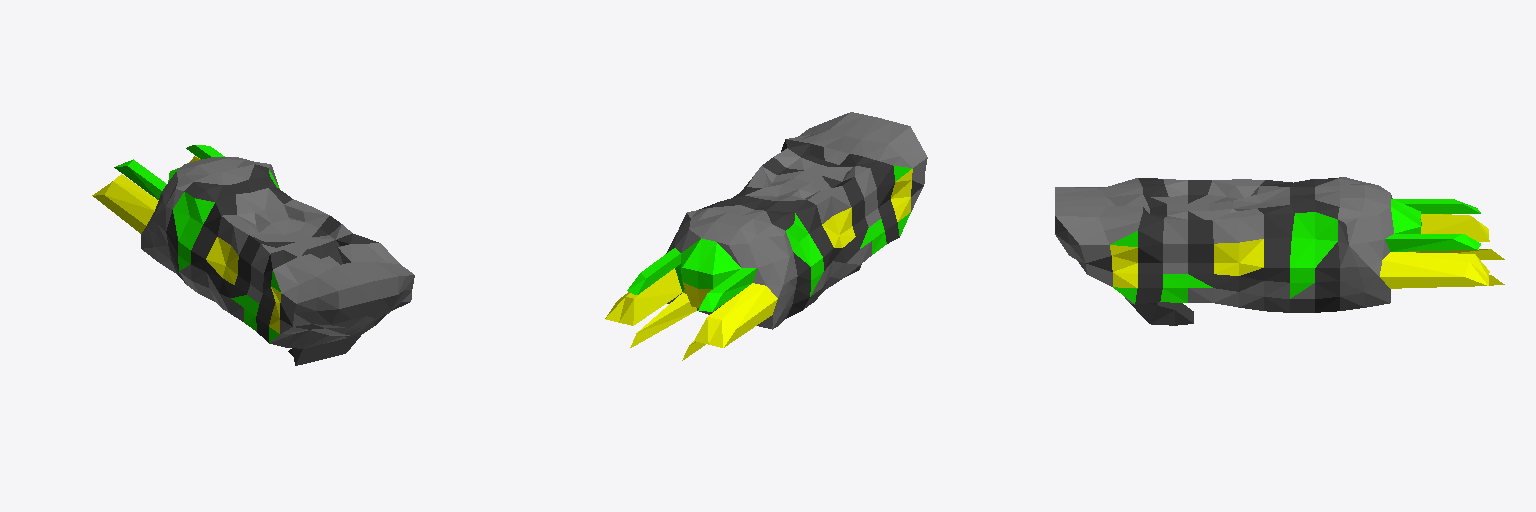
The picture shows the model from 3 angles: view 1: azimuth 30°, elevation 25°; view 2: azimuth 150°, elevation 25°; view 3: azimuth 270°, elevation 25°; orthographic projection.
Visible parts, largest first — view 1: Cube_Cube.001; view 2: Cube_Cube.001; view 3: Cube_Cube.001.
Boxes of the visible parts, box(x1,y1,x2,y2) form: Cube_Cube.001: box(92, 145, 414, 365); Cube_Cube.001: box(605, 112, 927, 360); Cube_Cube.001: box(1055, 177, 1504, 325).
Size of the model in its own units: 0.9651 by 0.9598 by 3.11.
1 materials, 1 textured.